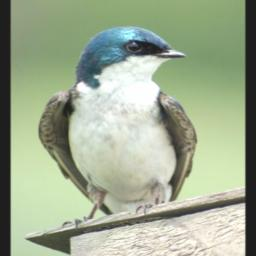Swallow: (38, 24, 199, 230)
